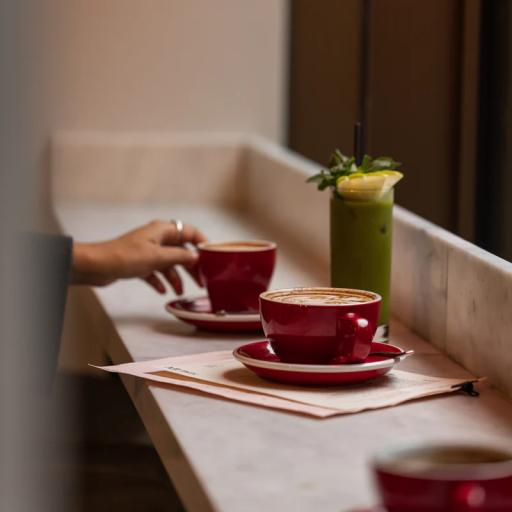phone: (260, 287, 382, 365), (196, 240, 278, 314)
